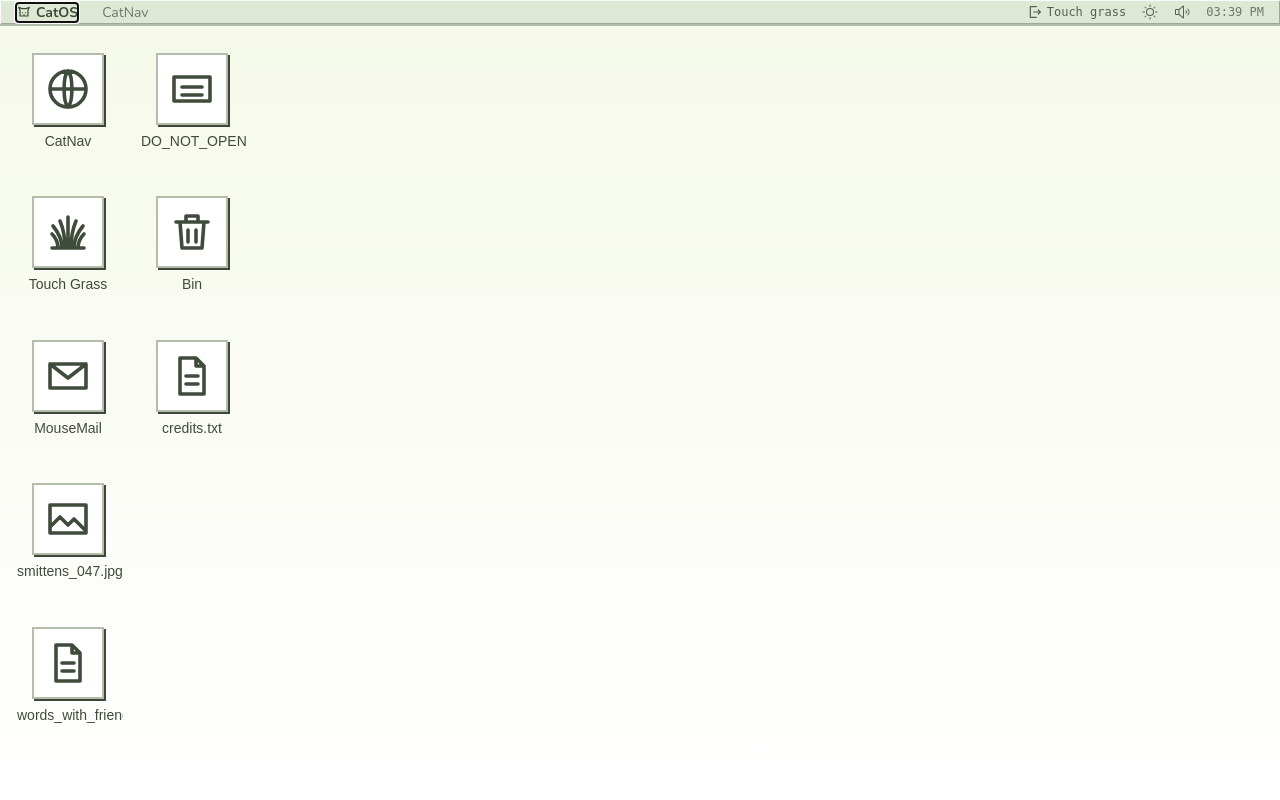
Test: LaptopScreenOverlay (CatOS) › the cat menu › opens the About box in a window of its own
Click the button with aria-label "CatOS menu".
click(47, 12)  # box [16, 2, 78, 22]
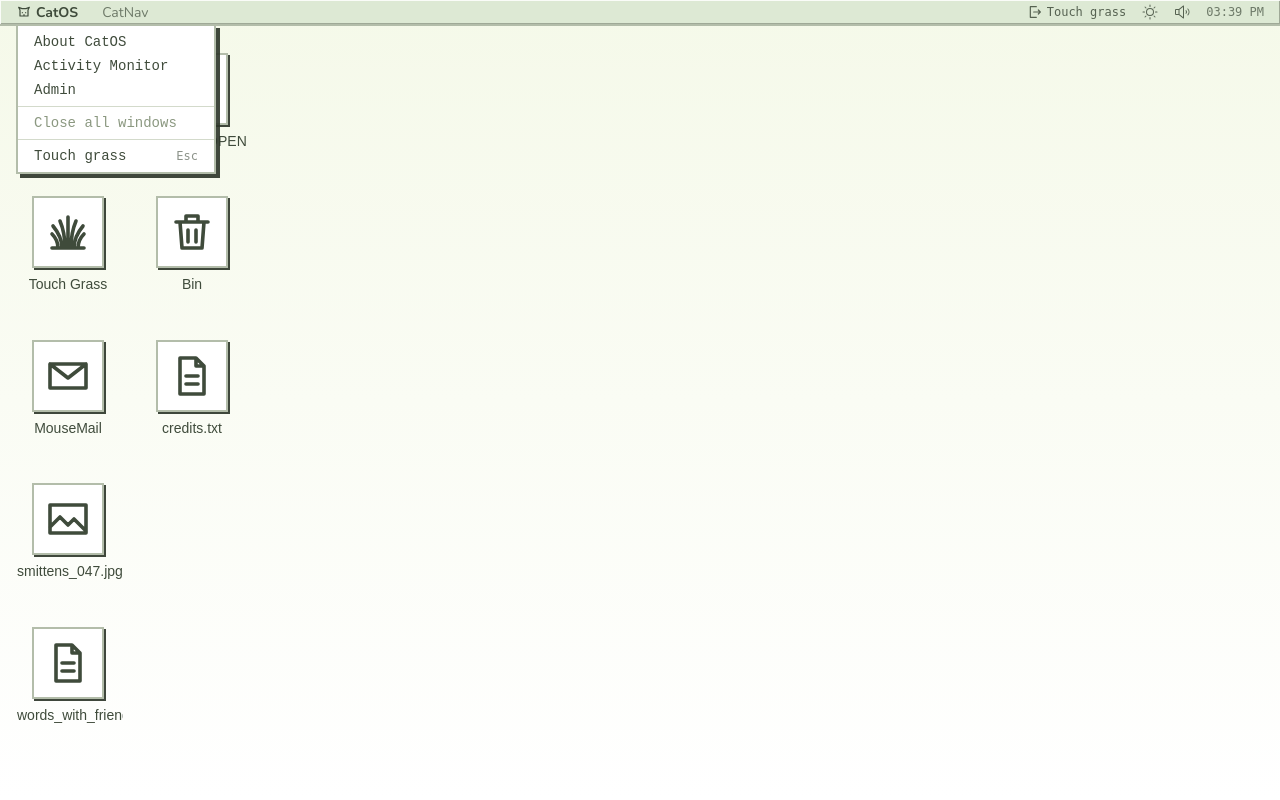
Click the menu item "About CatOS".
click(80, 42)  # box [34, 34, 126, 50]
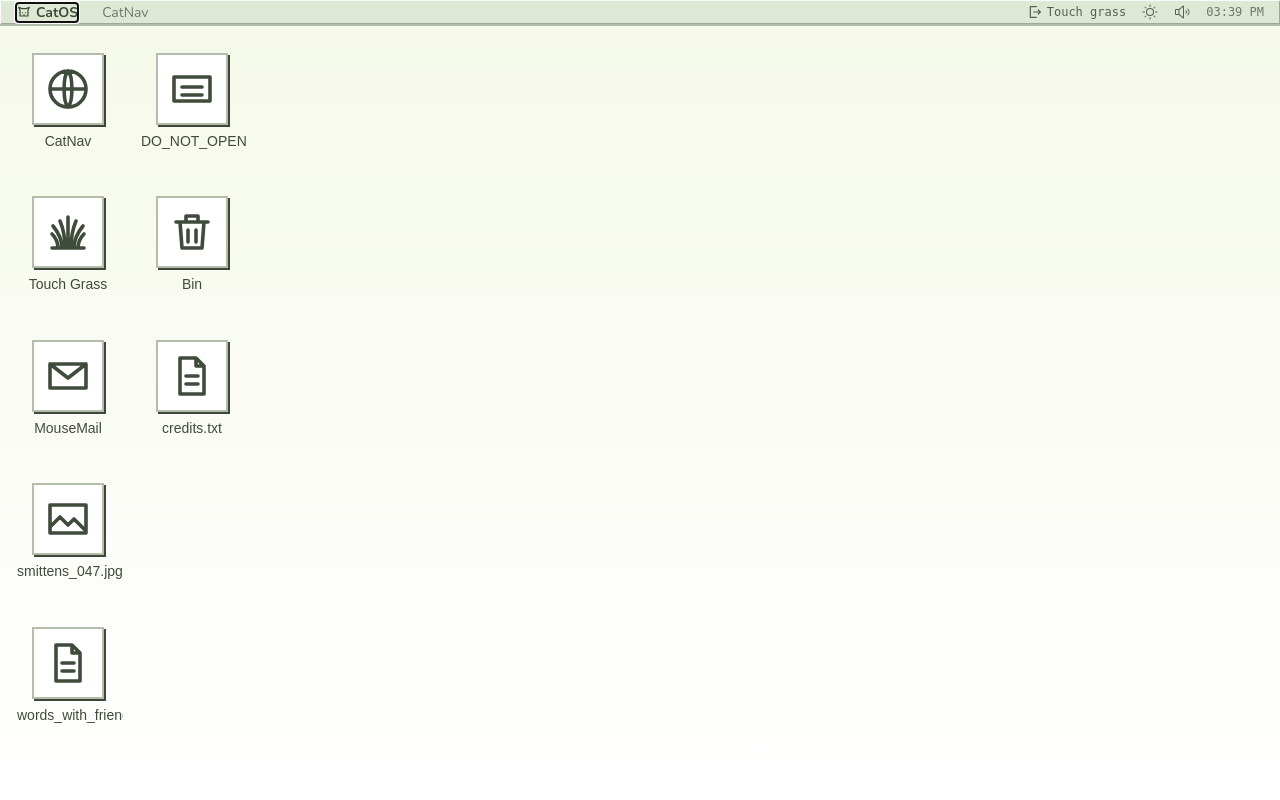
Expected: the text with test id "path" reads "/blog/about", [0, 0, 82, 22]
